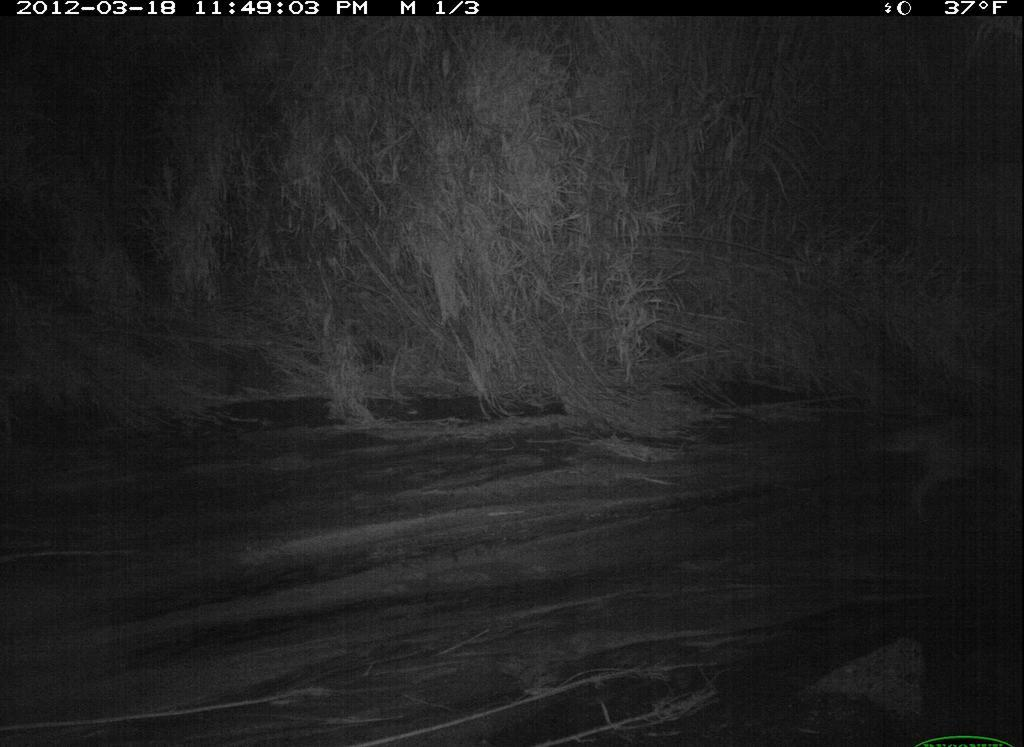coyote: (870, 405, 1022, 515)
